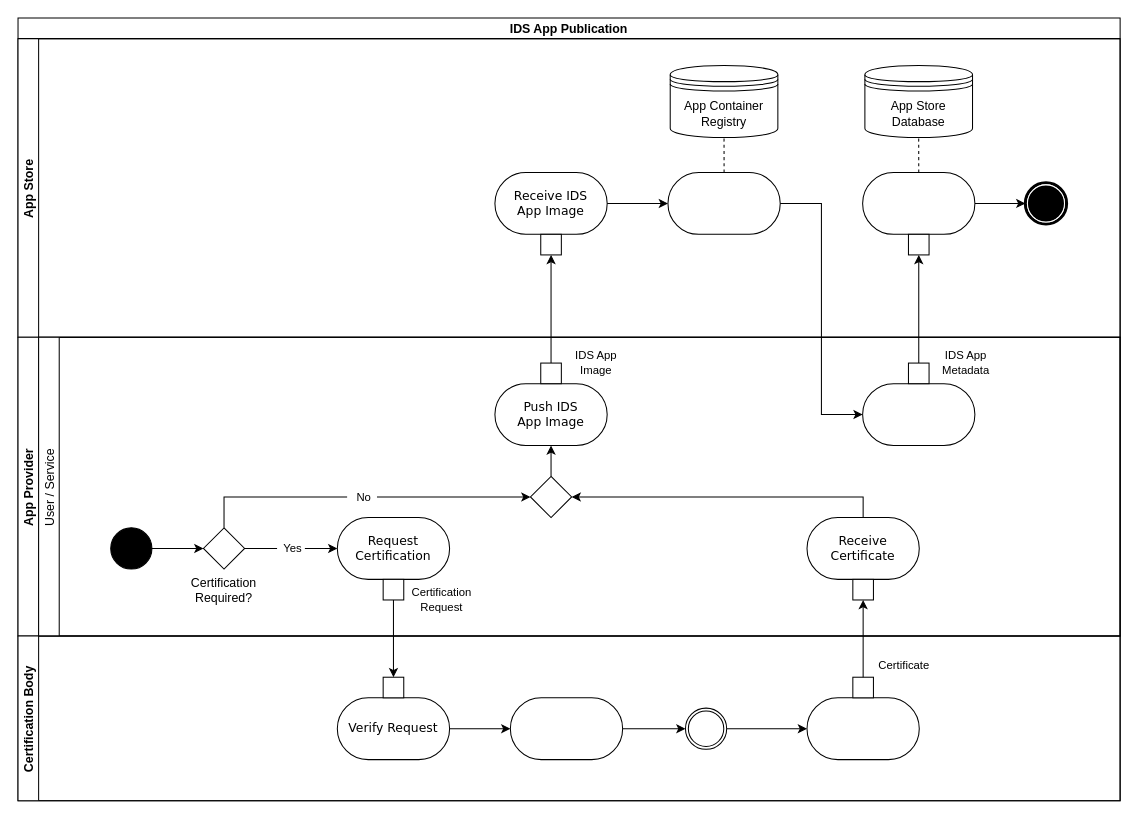
Image size: 1138x819. Some labels were removed from this diagram. Here are the shapes that lost their labels. From the top down, the centre of each, then its label:
At pixel 723 202: "Store IDS App Image".
At pixel 918 202: "Store IDS App Metadata".
At pixel 918 414: "Publish IDS App".
At pixel 566 728: "Perform Certification".
At pixel 705 728: "Approved".
At pixel 862 728: "Issue Certificate".
